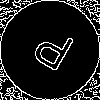P: (25, 25, 77, 81)
